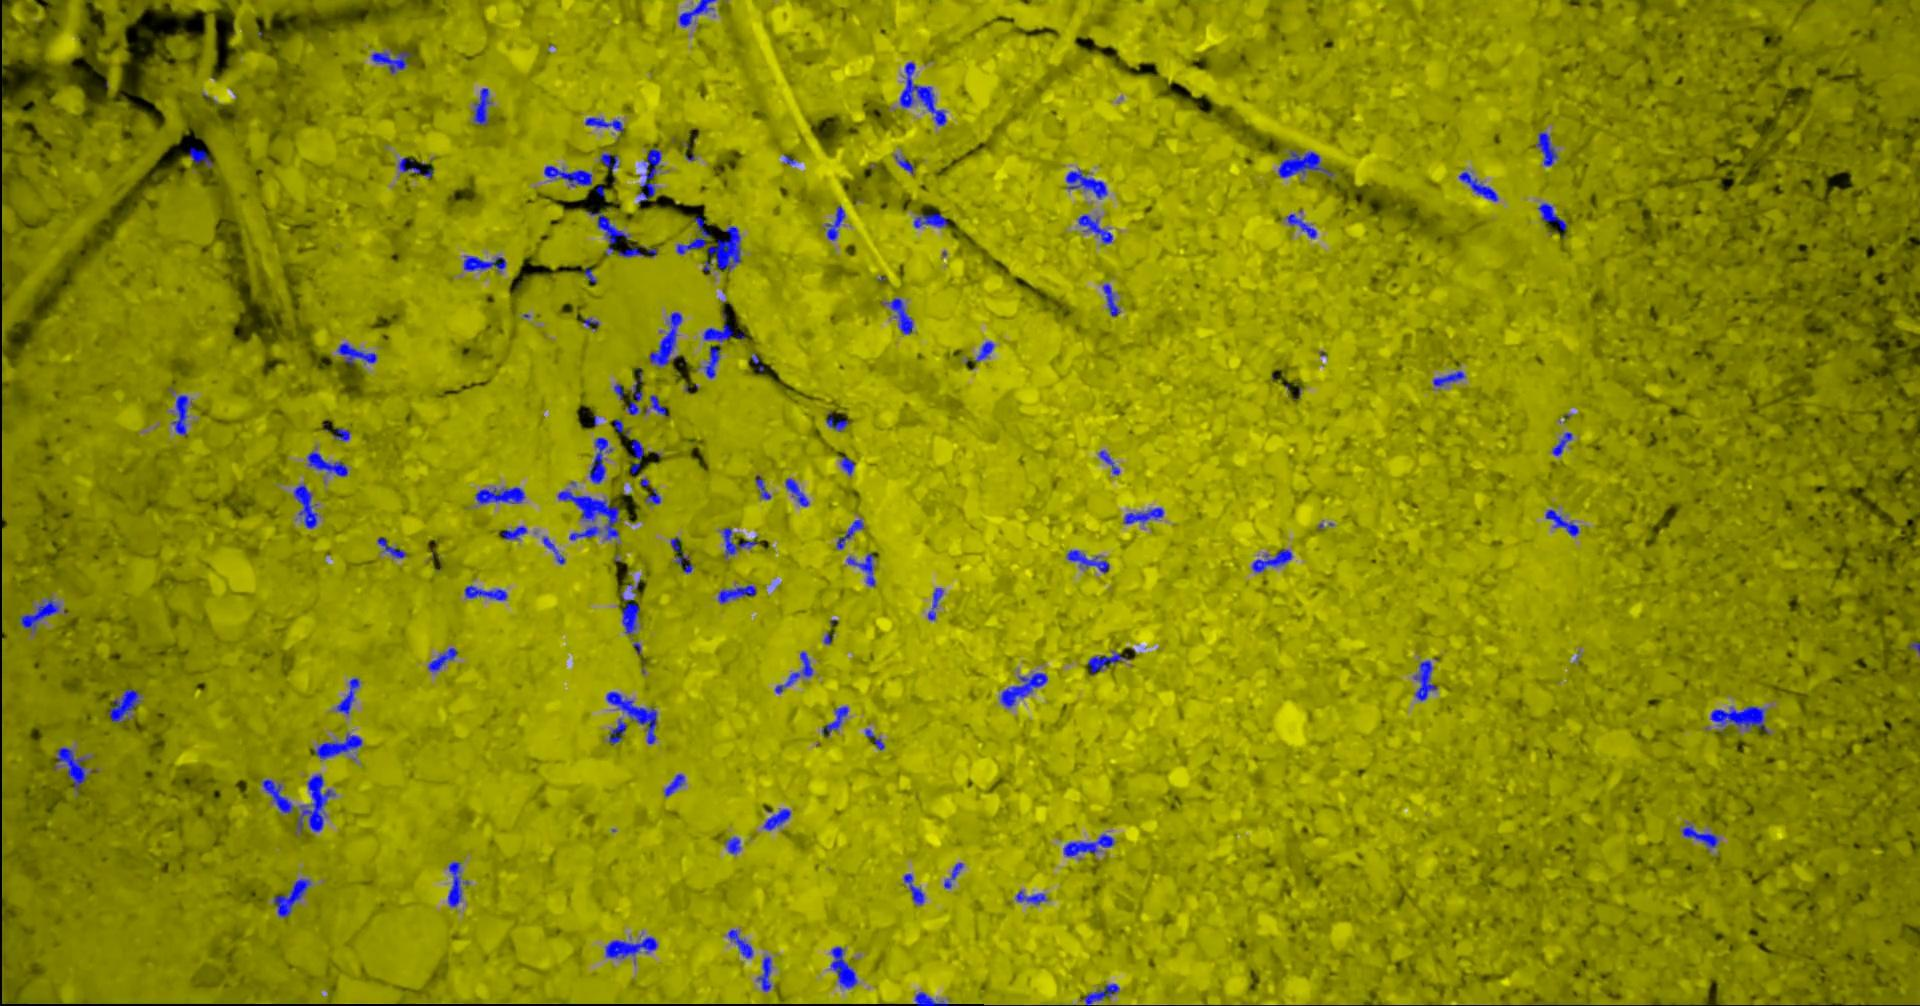ant: (899, 62, 946, 124), (604, 691, 657, 743), (296, 774, 335, 831), (587, 211, 629, 254), (648, 312, 681, 366), (702, 225, 740, 271), (999, 672, 1048, 708), (1710, 705, 1769, 733), (775, 652, 811, 694), (1277, 150, 1333, 177), (273, 878, 310, 917), (56, 747, 86, 791), (637, 149, 662, 203), (676, 216, 709, 254), (19, 598, 58, 630), (312, 733, 361, 758), (1065, 169, 1107, 198), (1458, 171, 1497, 201), (604, 936, 657, 958), (881, 297, 912, 334), (830, 946, 857, 988), (293, 483, 317, 528), (1063, 835, 1114, 856), (262, 779, 293, 813), (108, 688, 140, 721), (589, 437, 612, 483), (721, 527, 756, 558), (1065, 549, 1109, 573), (1537, 202, 1566, 238), (1077, 213, 1112, 243), (307, 451, 347, 476), (1681, 823, 1718, 850), (1251, 547, 1291, 572), (678, 0, 716, 25), (846, 553, 875, 586), (447, 861, 469, 906), (543, 165, 590, 185), (1413, 661, 1437, 700), (1087, 650, 1128, 673), (337, 342, 376, 365), (335, 677, 359, 714), (371, 51, 410, 72), (1545, 509, 1578, 535), (625, 367, 643, 414), (620, 591, 639, 634), (475, 486, 524, 503), (1082, 983, 1119, 1005), (836, 520, 863, 547), (171, 394, 190, 434), (670, 537, 692, 573), (702, 323, 744, 340), (822, 706, 847, 735), (427, 647, 457, 671), (717, 584, 756, 603), (1286, 213, 1316, 238), (728, 929, 752, 958), (1537, 131, 1557, 165), (397, 158, 433, 177), (825, 205, 844, 240), (1123, 507, 1163, 523), (463, 584, 507, 600), (472, 88, 490, 124), (903, 873, 923, 904), (463, 255, 505, 271), (785, 478, 808, 506), (542, 536, 565, 564), (584, 117, 623, 132), (763, 808, 790, 829), (377, 537, 405, 558), (1102, 283, 1119, 316), (703, 345, 720, 379), (1432, 370, 1465, 386), (756, 955, 771, 991), (927, 587, 943, 619), (913, 212, 947, 227), (188, 146, 212, 166), (1098, 450, 1119, 474), (943, 862, 963, 888), (608, 718, 626, 744), (644, 394, 665, 415), (1550, 432, 1571, 455), (664, 774, 684, 796), (914, 991, 947, 1005), (1015, 890, 1046, 904), (863, 728, 884, 749), (825, 412, 848, 431), (630, 438, 643, 473), (974, 340, 993, 361), (599, 152, 618, 171), (894, 154, 913, 173), (502, 525, 526, 539), (754, 478, 770, 499), (613, 418, 629, 437), (617, 246, 644, 257), (645, 486, 660, 504), (725, 836, 740, 854), (841, 456, 855, 475), (331, 427, 349, 439), (583, 318, 598, 329)
